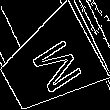M_SW: (19, 32, 80, 97)
